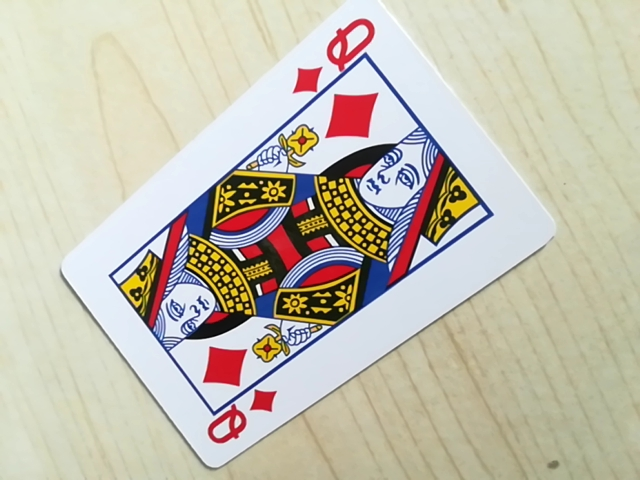fk q: (292, 9, 381, 102), (199, 384, 279, 456)
